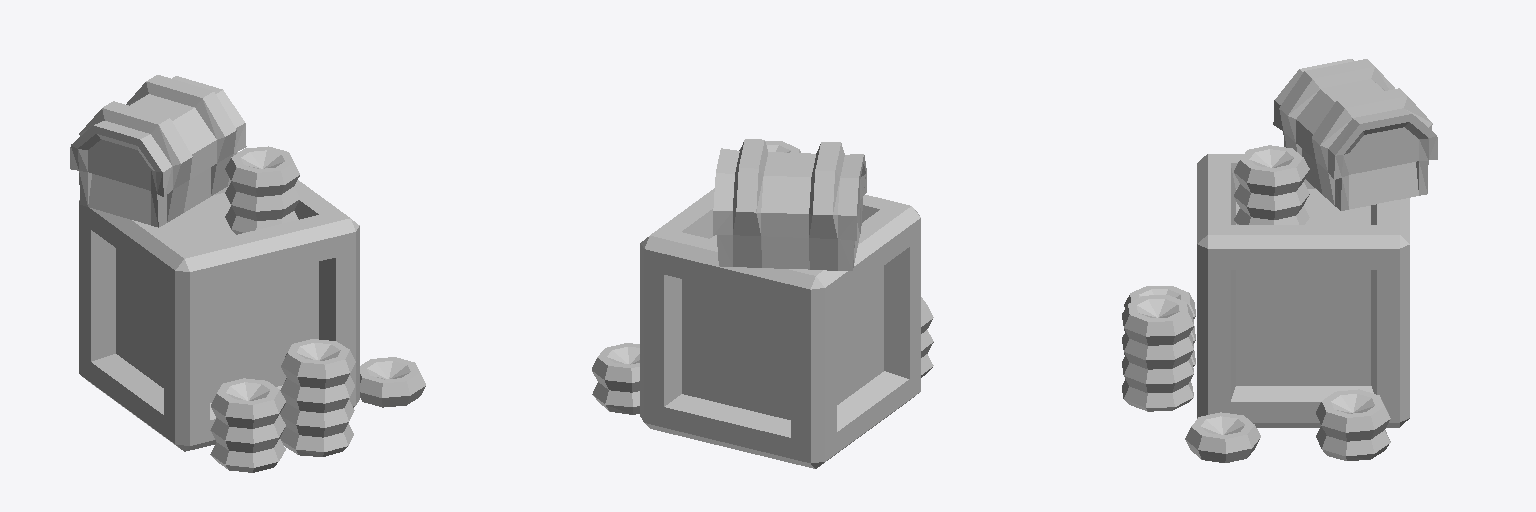
Rendered from box_small_decorated.obj.
3 views of the same model, side by side, from view 1: azimuth 30°, elevation 25°; view 2: azimuth 150°, elevation 25°; view 3: azimuth 270°, elevation 25° (orthographic).
Parts seen in each view (by area): view 1: box_small_decorated; view 2: box_small_decorated; view 3: box_small_decorated.
Part boxes in pixels (bbox=[...]): box_small_decorated: bbox=[70, 75, 425, 472]; box_small_decorated: bbox=[592, 139, 933, 468]; box_small_decorated: bbox=[1122, 59, 1437, 462].
Bounding box in the file's own units: 1.49 × 1.48 × 1.49.